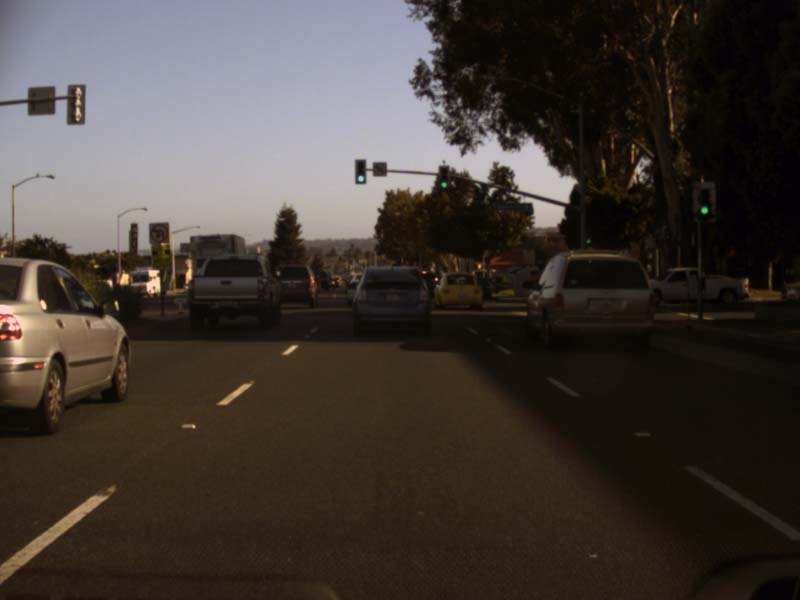Green: (692, 181, 715, 222), (437, 165, 449, 189), (355, 160, 365, 182), (584, 229, 592, 244)
